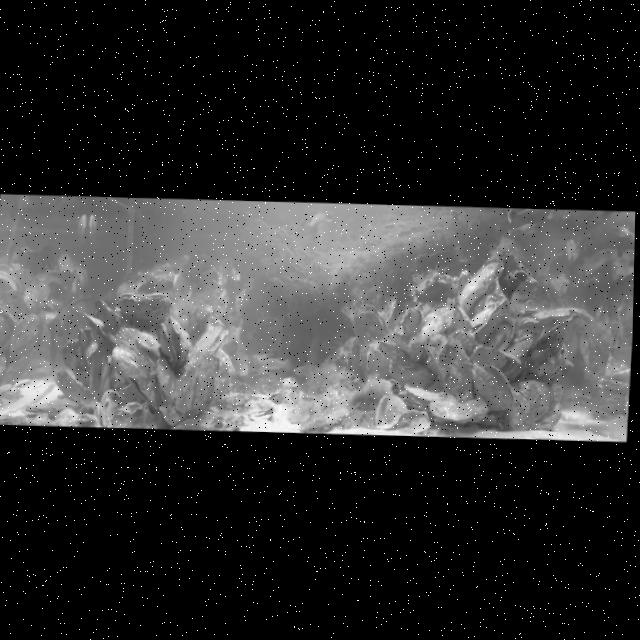Oyster-Closed: (110, 324, 163, 408), (421, 330, 478, 401), (407, 303, 453, 362), (458, 257, 503, 314), (427, 394, 489, 425), (470, 294, 507, 342), (511, 379, 553, 421), (195, 353, 221, 415), (171, 359, 198, 413), (505, 386, 537, 431), (22, 395, 82, 418), (153, 356, 179, 409), (403, 383, 456, 407), (386, 364, 435, 387), (444, 295, 474, 332), (80, 312, 110, 341)
Oyster-Indeterminate: (6, 310, 43, 367), (55, 338, 93, 388), (538, 312, 578, 352), (515, 305, 581, 329), (414, 272, 459, 306), (212, 349, 235, 407), (93, 298, 125, 336), (484, 312, 516, 349), (50, 366, 84, 400), (447, 327, 479, 359), (471, 343, 506, 370), (396, 408, 432, 434), (98, 389, 122, 427), (133, 273, 174, 295), (503, 332, 535, 360), (0, 304, 17, 350), (399, 305, 423, 337), (376, 341, 408, 361)
Oyster-Open: (467, 359, 516, 412), (117, 290, 173, 324), (158, 315, 193, 364), (350, 301, 390, 343), (372, 394, 408, 430), (191, 326, 228, 356), (0, 268, 24, 298), (266, 390, 286, 403)
